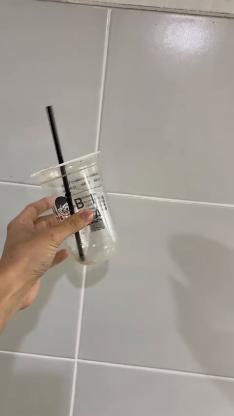Plastic Cup: (30, 152, 122, 264)
